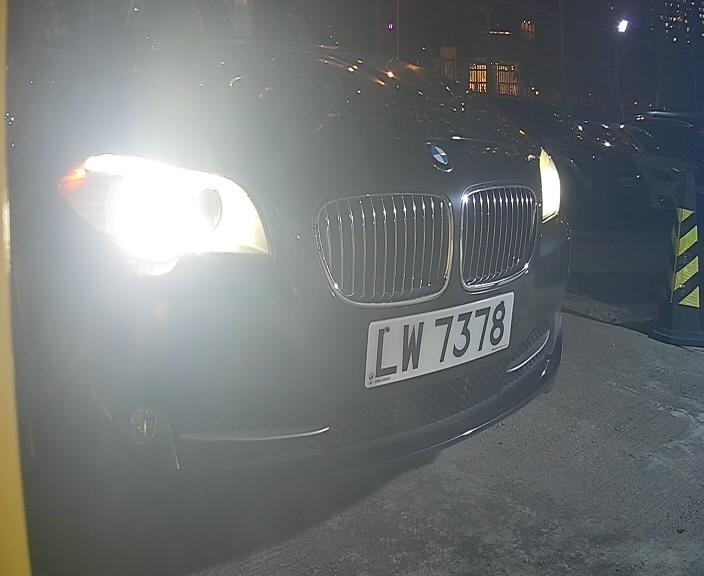privatecar: (6, 2, 594, 495)
